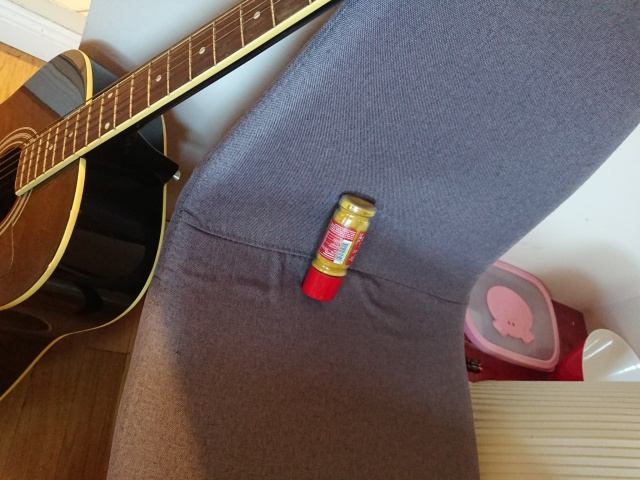Kotanyi Curry Spices Mix 70g: (295, 190, 379, 305)
